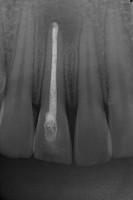Furcation Involvement: (39, 0, 80, 45)
